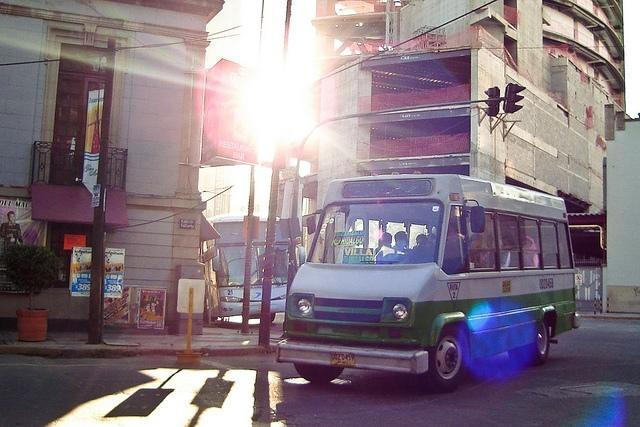bus: (276, 174, 583, 394), (208, 214, 292, 323)
